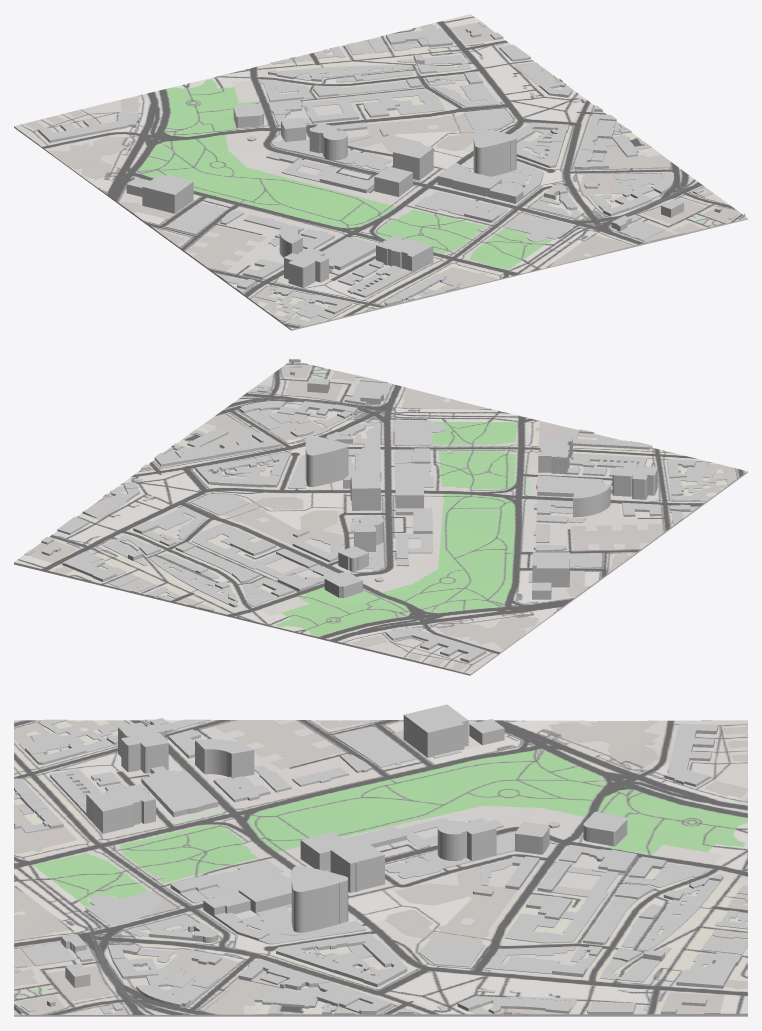
Rendered from Map.fbx.
3 views of the same model, one above another, from view 1: azimuth 30°, elevation 25°; view 2: azimuth 150°, elevation 25°; view 3: azimuth 270°, elevation 25° (orthographic). The views are drawn at different scales.
Parts seen in each view (by area): view 1: 6959f0c5-1133-4990-bc7d-b69bd3f3e5ad; view 2: 6959f0c5-1133-4990-bc7d-b69bd3f3e5ad; view 3: 6959f0c5-1133-4990-bc7d-b69bd3f3e5ad.
Boxes of the visible parts, x1=… form: 6959f0c5-1133-4990-bc7d-b69bd3f3e5ad: x1=14, y1=14, x2=747, y2=330; 6959f0c5-1133-4990-bc7d-b69bd3f3e5ad: x1=14, y1=359, x2=747, y2=675; 6959f0c5-1133-4990-bc7d-b69bd3f3e5ad: x1=14, y1=704, x2=747, y2=1016.
Size of the model in its own units: 5886 by 417 by 6201.
Materials: 2 (1 with a texture image).
